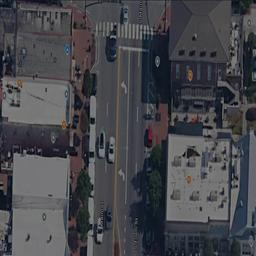Car: (106, 29, 117, 62), (107, 136, 116, 164), (95, 217, 104, 244), (97, 132, 104, 159), (122, 5, 129, 25), (105, 206, 111, 229)
Crosswalk: (94, 19, 155, 41)
Double Solid Yellow Line: (112, 50, 123, 212)
Left Turn Arrow: (117, 166, 126, 182), (122, 82, 127, 94)
Solid White Line: (124, 51, 131, 202)
Stopline: (118, 43, 152, 54)
White Dashed Line: (104, 94, 110, 176), (135, 103, 140, 178), (123, 206, 126, 256)
